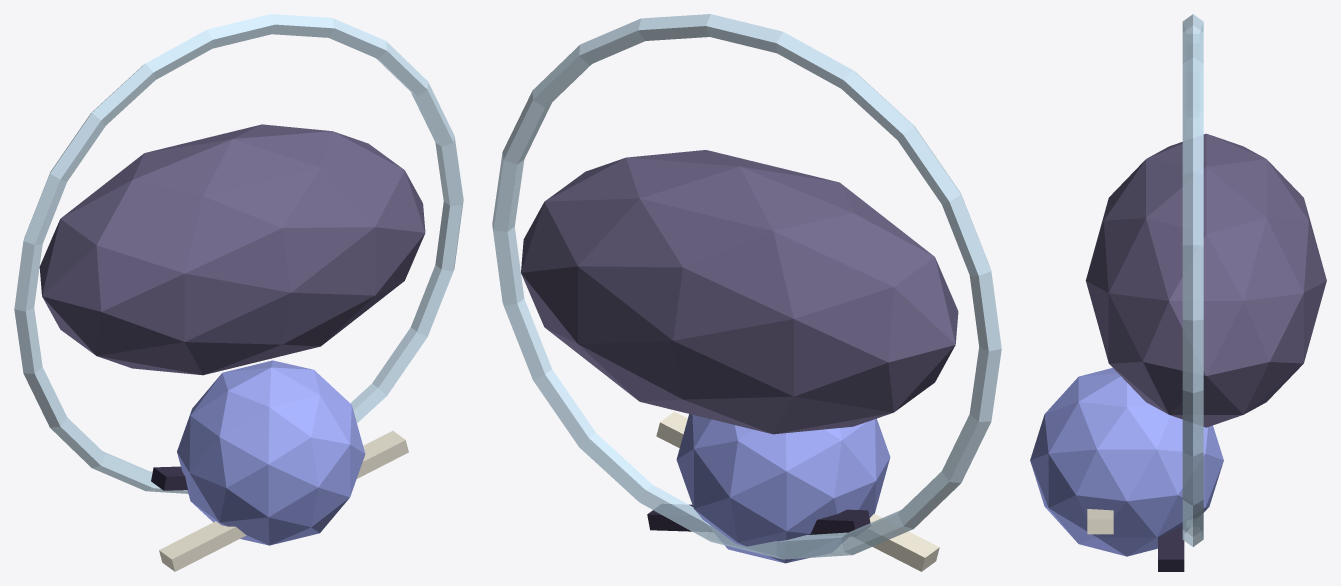
File: 02_random_skin_projector.glb
3 renders of one model, left to right at view 1: azimuth 30°, elevation 25°; view 2: azimuth 150°, elevation 25°; view 3: azimuth 270°, elevation 25°, orthographic. The views are drawn at different scales.
Visible parts, largest first — view 1: skin_preview_body, skin_preview_head, skin_shuffle_ring, pattern_stripe_a, pattern_stripe_b; view 2: skin_preview_body, skin_shuffle_ring, skin_preview_head, pattern_stripe_a, pattern_stripe_b; view 3: skin_preview_body, skin_preview_head, skin_shuffle_ring, pattern_stripe_b, pattern_stripe_a.
Part boxes in pixels (x1=…): skin_preview_body: x1=39, y1=124, x2=425, y2=375; skin_preview_head: x1=177, y1=360, x2=365, y2=545; skin_shuffle_ring: x1=14, y1=14, x2=463, y2=493; pattern_stripe_a: x1=159, y1=431, x2=408, y2=571; pattern_stripe_b: x1=151, y1=466, x2=187, y2=490; skin_preview_body: x1=521, y1=150, x2=958, y2=434; skin_shuffle_ring: x1=492, y1=14, x2=1001, y2=559; skin_preview_head: x1=676, y1=414, x2=890, y2=563; pattern_stripe_a: x1=656, y1=411, x2=939, y2=571; pattern_stripe_b: x1=647, y1=504, x2=870, y2=535; skin_preview_body: x1=1085, y1=133, x2=1326, y2=427; skin_preview_head: x1=1030, y1=368, x2=1223, y2=556; skin_shuffle_ring: x1=1182, y1=14, x2=1203, y2=546; pattern_stripe_b: x1=1158, y1=526, x2=1184, y2=571; pattern_stripe_a: x1=1087, y1=509, x2=1113, y2=534.
Bounding box in the file's own units: 1.21 × 1.27 × 0.6736.
